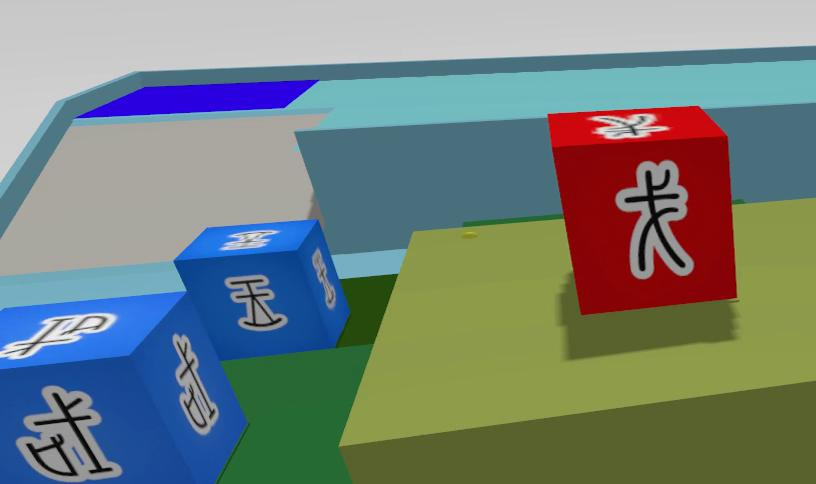KFS_FAKE: (548, 107, 736, 313), (616, 160, 694, 278), (588, 112, 669, 139)
KFS_REAL: (0, 293, 246, 484), (174, 219, 348, 359), (16, 386, 121, 482), (0, 312, 117, 359), (172, 334, 218, 434), (225, 276, 286, 329)
